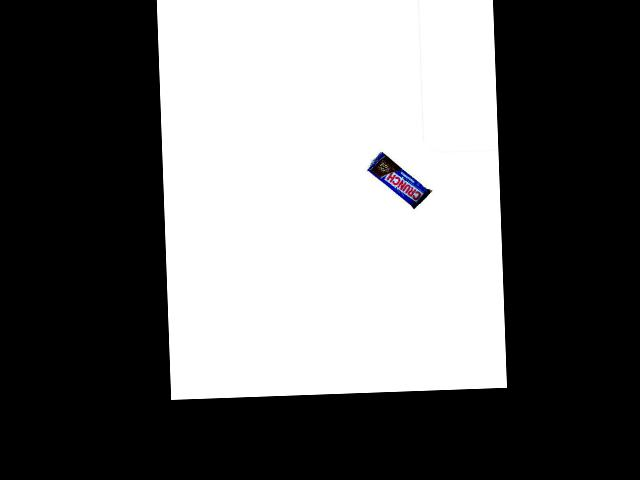chocolate: (365, 149, 433, 211)
